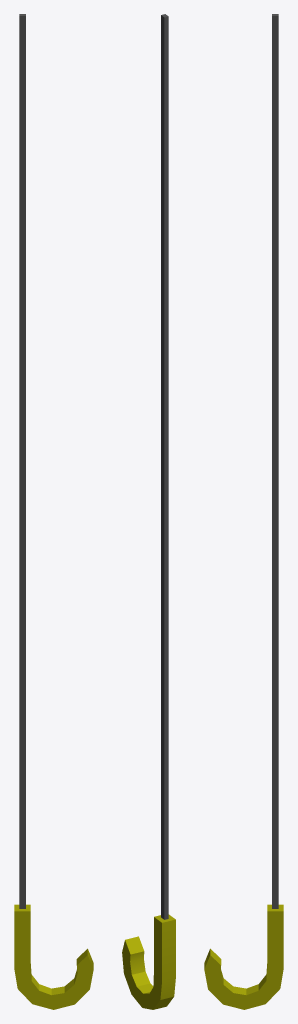
Rendered from CraneHook.fbx.
The picture shows the model from 3 angles, left to right: view 1: azimuth 90°, elevation 25°; view 2: azimuth 210°, elevation 25°; view 3: azimuth 270°, elevation 25°; orthographic projection.
Parts seen in each view (by area): view 1: Cube.017; view 2: Cube.017; view 3: Cube.017.
Boxes of the visible parts, x1,y1,x2,y2 form: Cube.017: (14, 14, 93, 1009); Cube.017: (122, 14, 175, 1009); Cube.017: (204, 14, 283, 1009).
Bounding box in the file's own units: 5.66 × 392 × 28.46.
